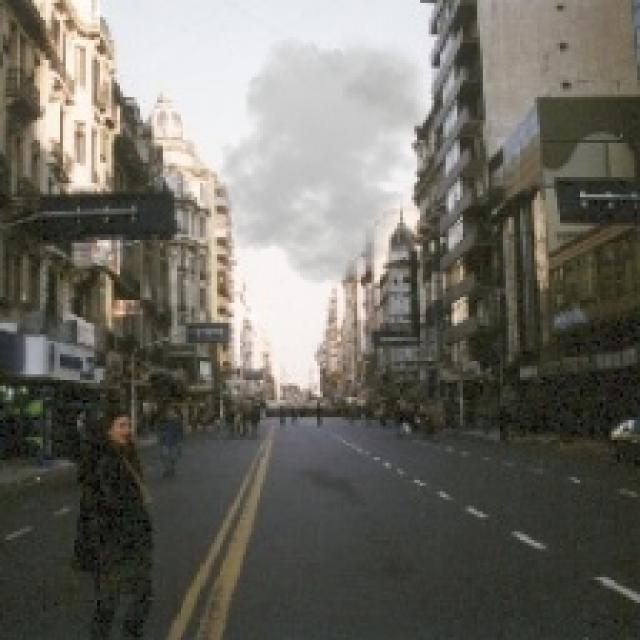Smoke: (212, 28, 434, 286)
